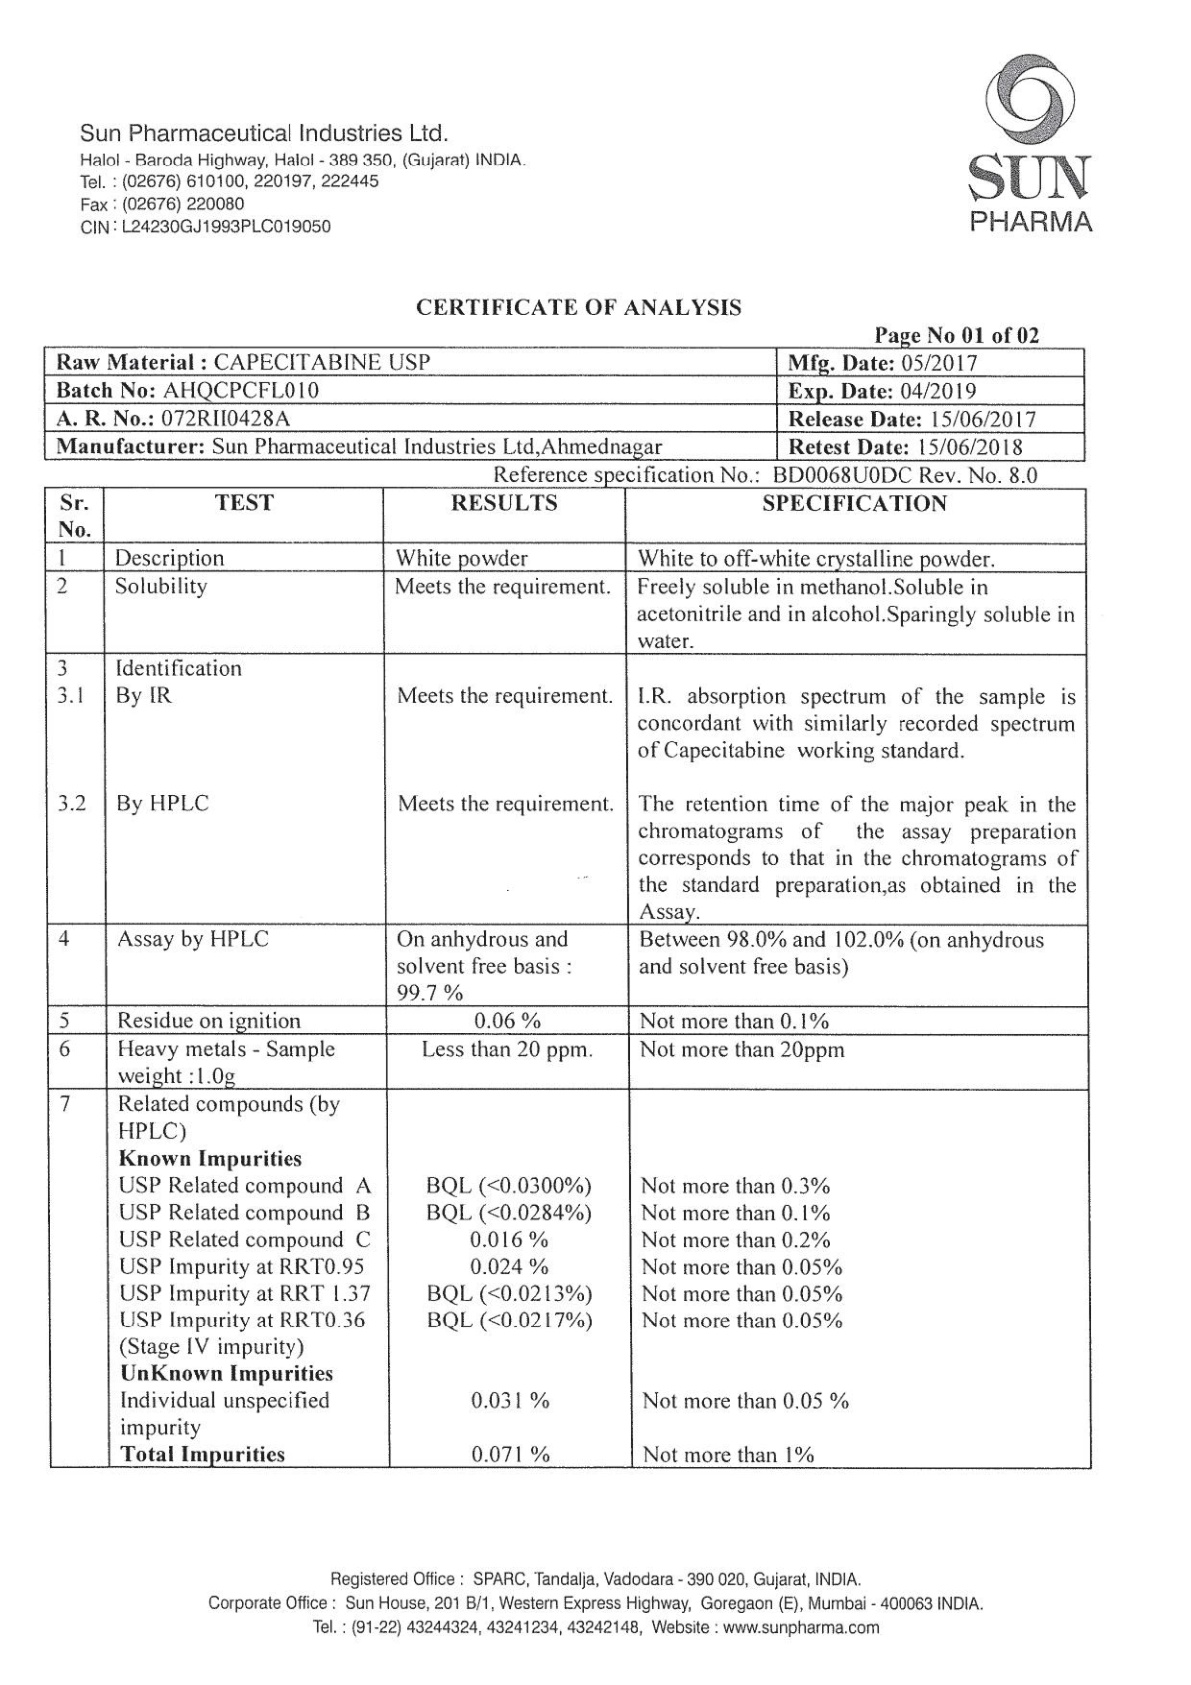full_lined: (43, 483, 1094, 1470), (41, 344, 1087, 463)
